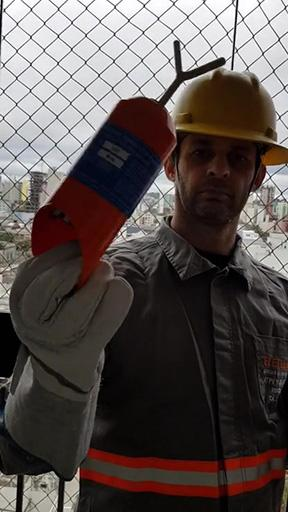Detector_Tensao_Contato: (30, 41, 225, 296)
